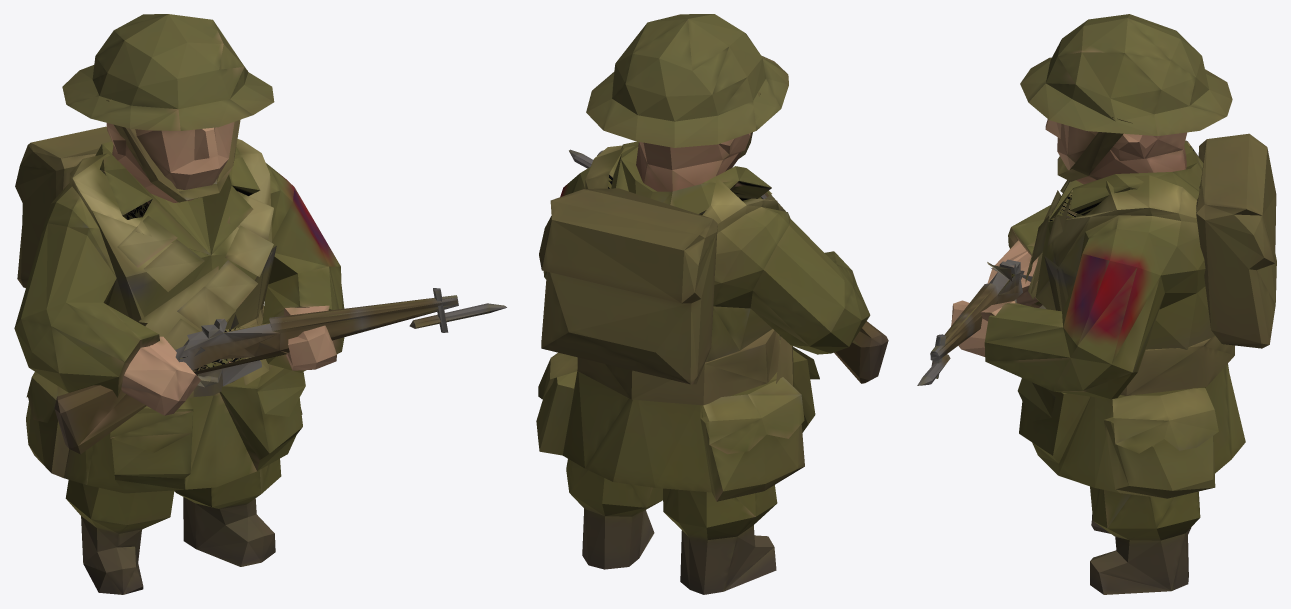
The model's file is bulge_british_inf_1.glb.
The picture shows the model from 3 angles, left to right: view 1: azimuth 30°, elevation 25°; view 2: azimuth 150°, elevation 25°; view 3: azimuth 270°, elevation 25°; orthographic projection. The views are drawn at different scales.
Visible parts, largest first — view 1: geometry_0; view 2: geometry_0; view 3: geometry_0.
Boxes of the visible parts, box(x1,y1,x2,y2) form: geometry_0: box(14, 14, 506, 594); geometry_0: box(536, 14, 888, 594); geometry_0: box(917, 14, 1276, 594).
Size of the model in its own units: 0.2372 by 0.324 by 0.1983.
Materials: 1 (1 with a texture image).
